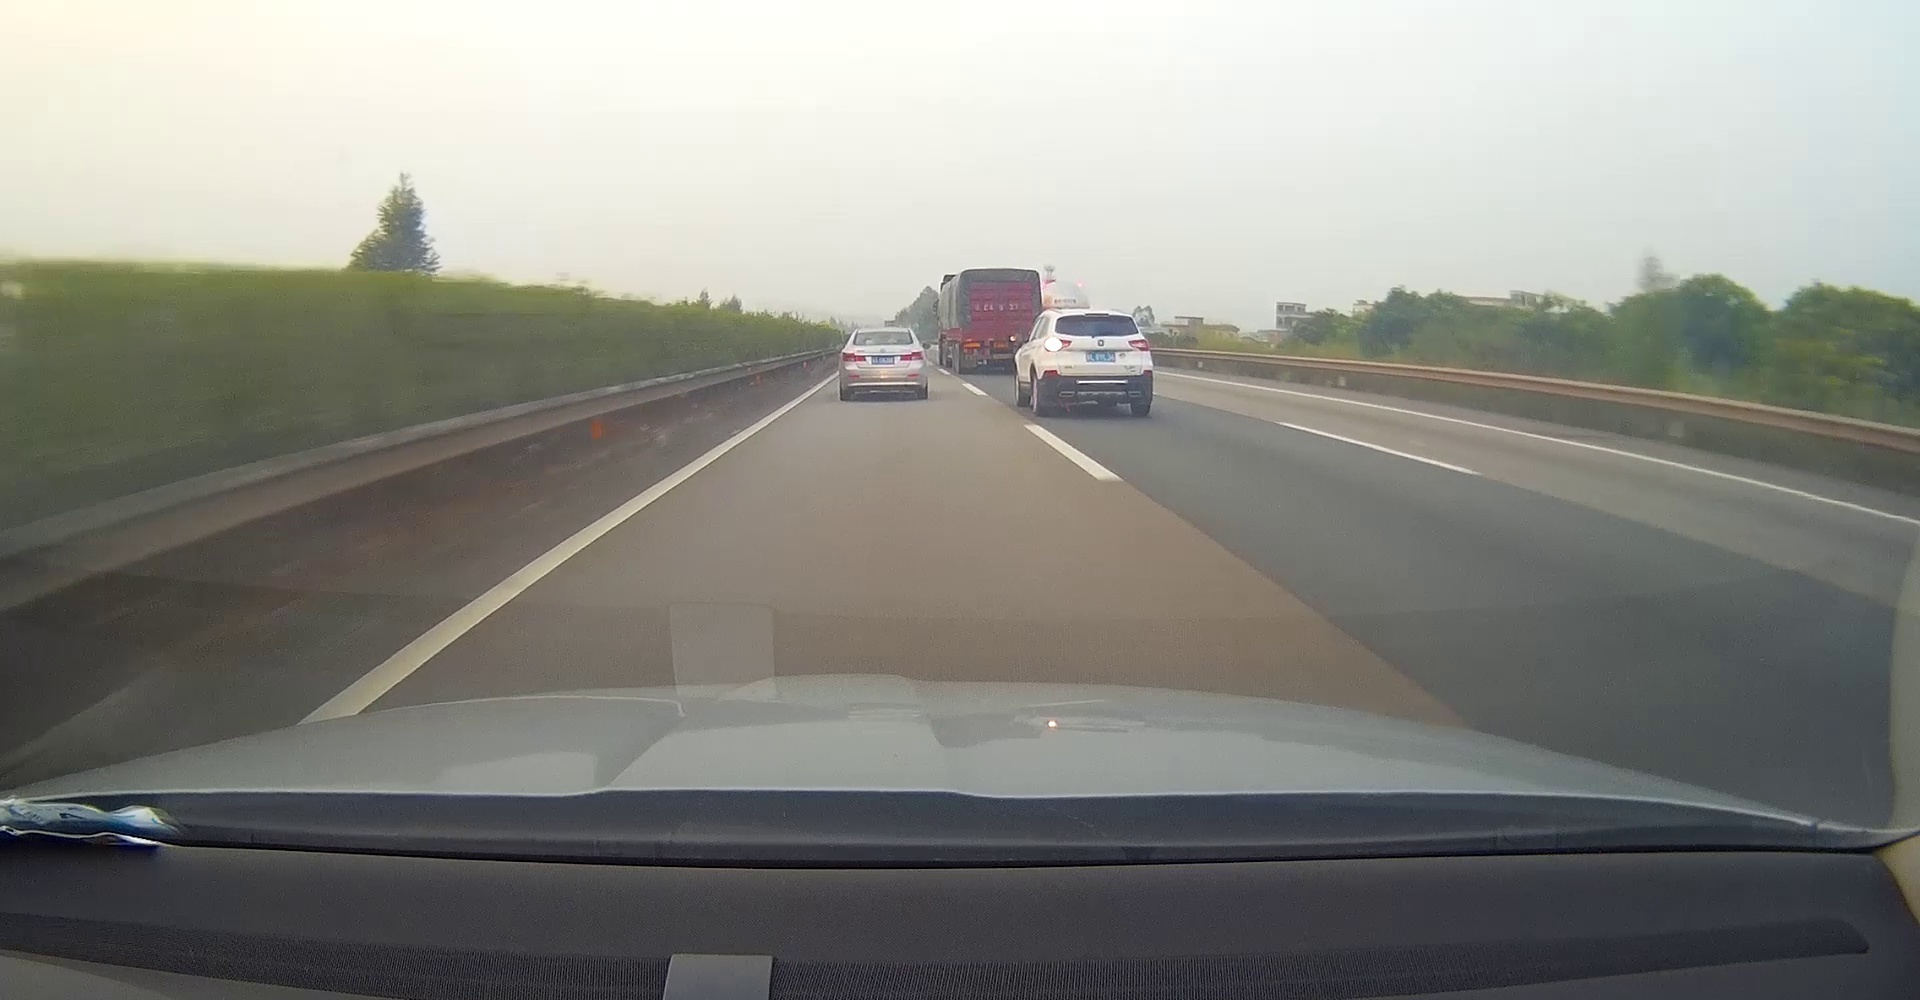L_light: (1045, 338, 1072, 352), (842, 352, 866, 362)
R_light: (1129, 338, 1149, 352), (899, 350, 924, 360)
T_light: (1084, 312, 1109, 316), (877, 330, 890, 332)
day-left: (1041, 308, 1154, 418)
day-no: (839, 326, 930, 401)
